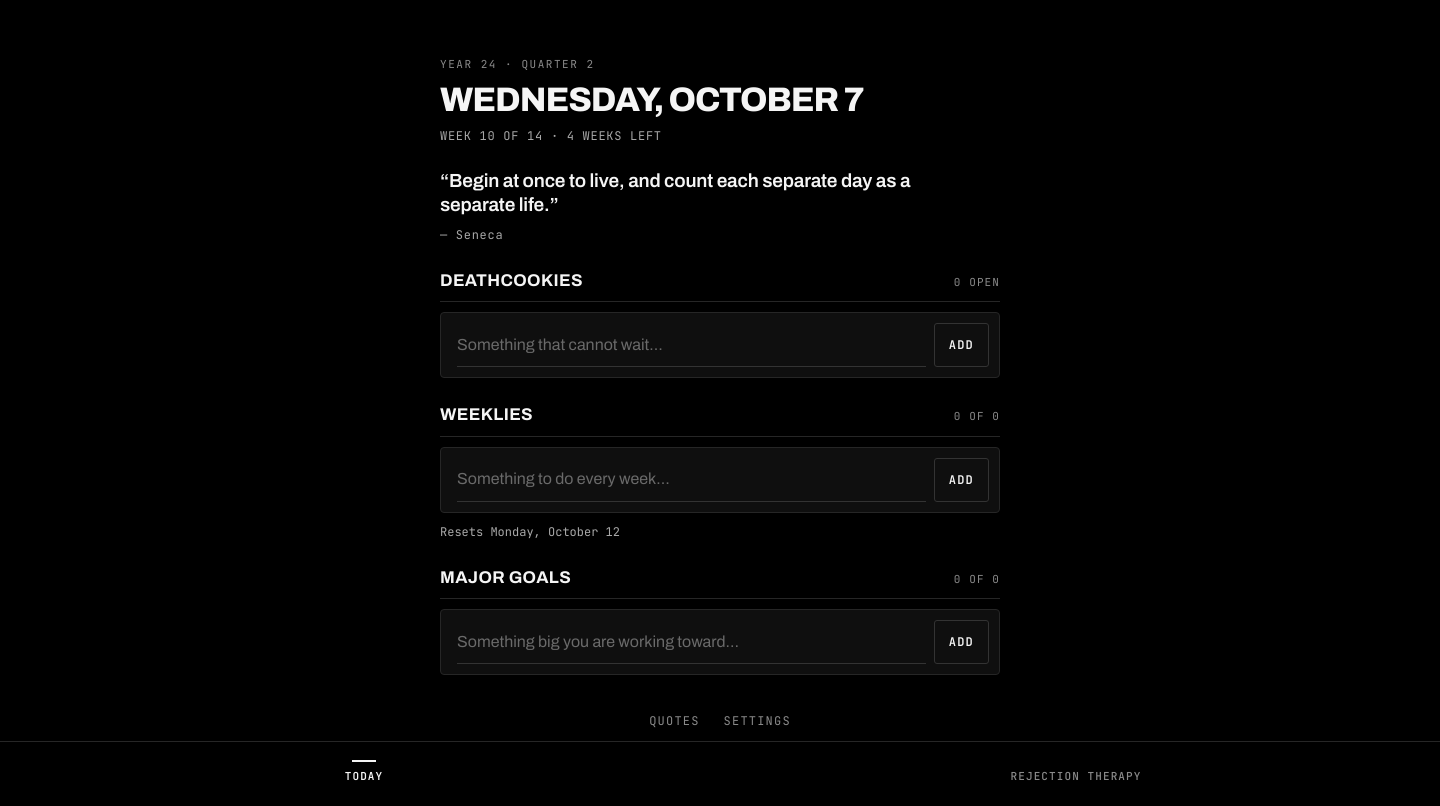
it: settings › shows when the last reminder went out, for a signed-in account
What coordinates should you click on to do the following:
click the button "Settings"
I would click on:
 (757, 721)
Its box is [720, 699, 795, 743].
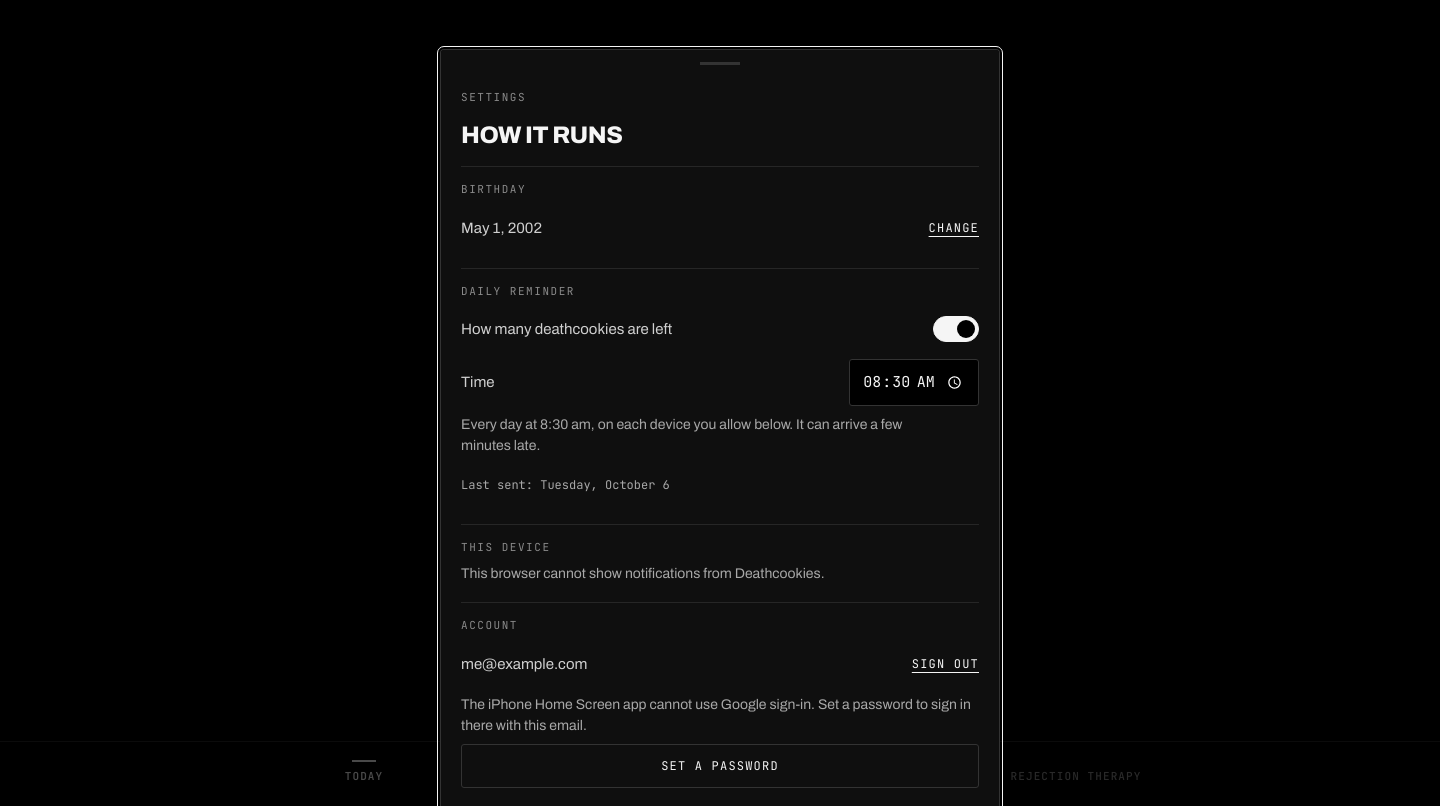
Check: the text "Last sent: Tuesday, October 6" is shown, box [461, 477, 670, 493]
Check: the text "me@example.com" is shown, box [461, 652, 587, 675]
